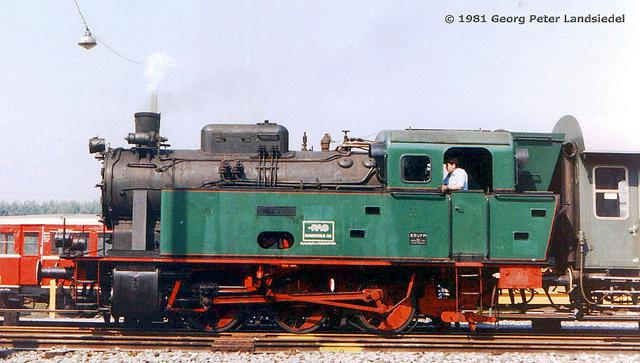Train: (82, 100, 640, 350), (0, 214, 113, 326)
